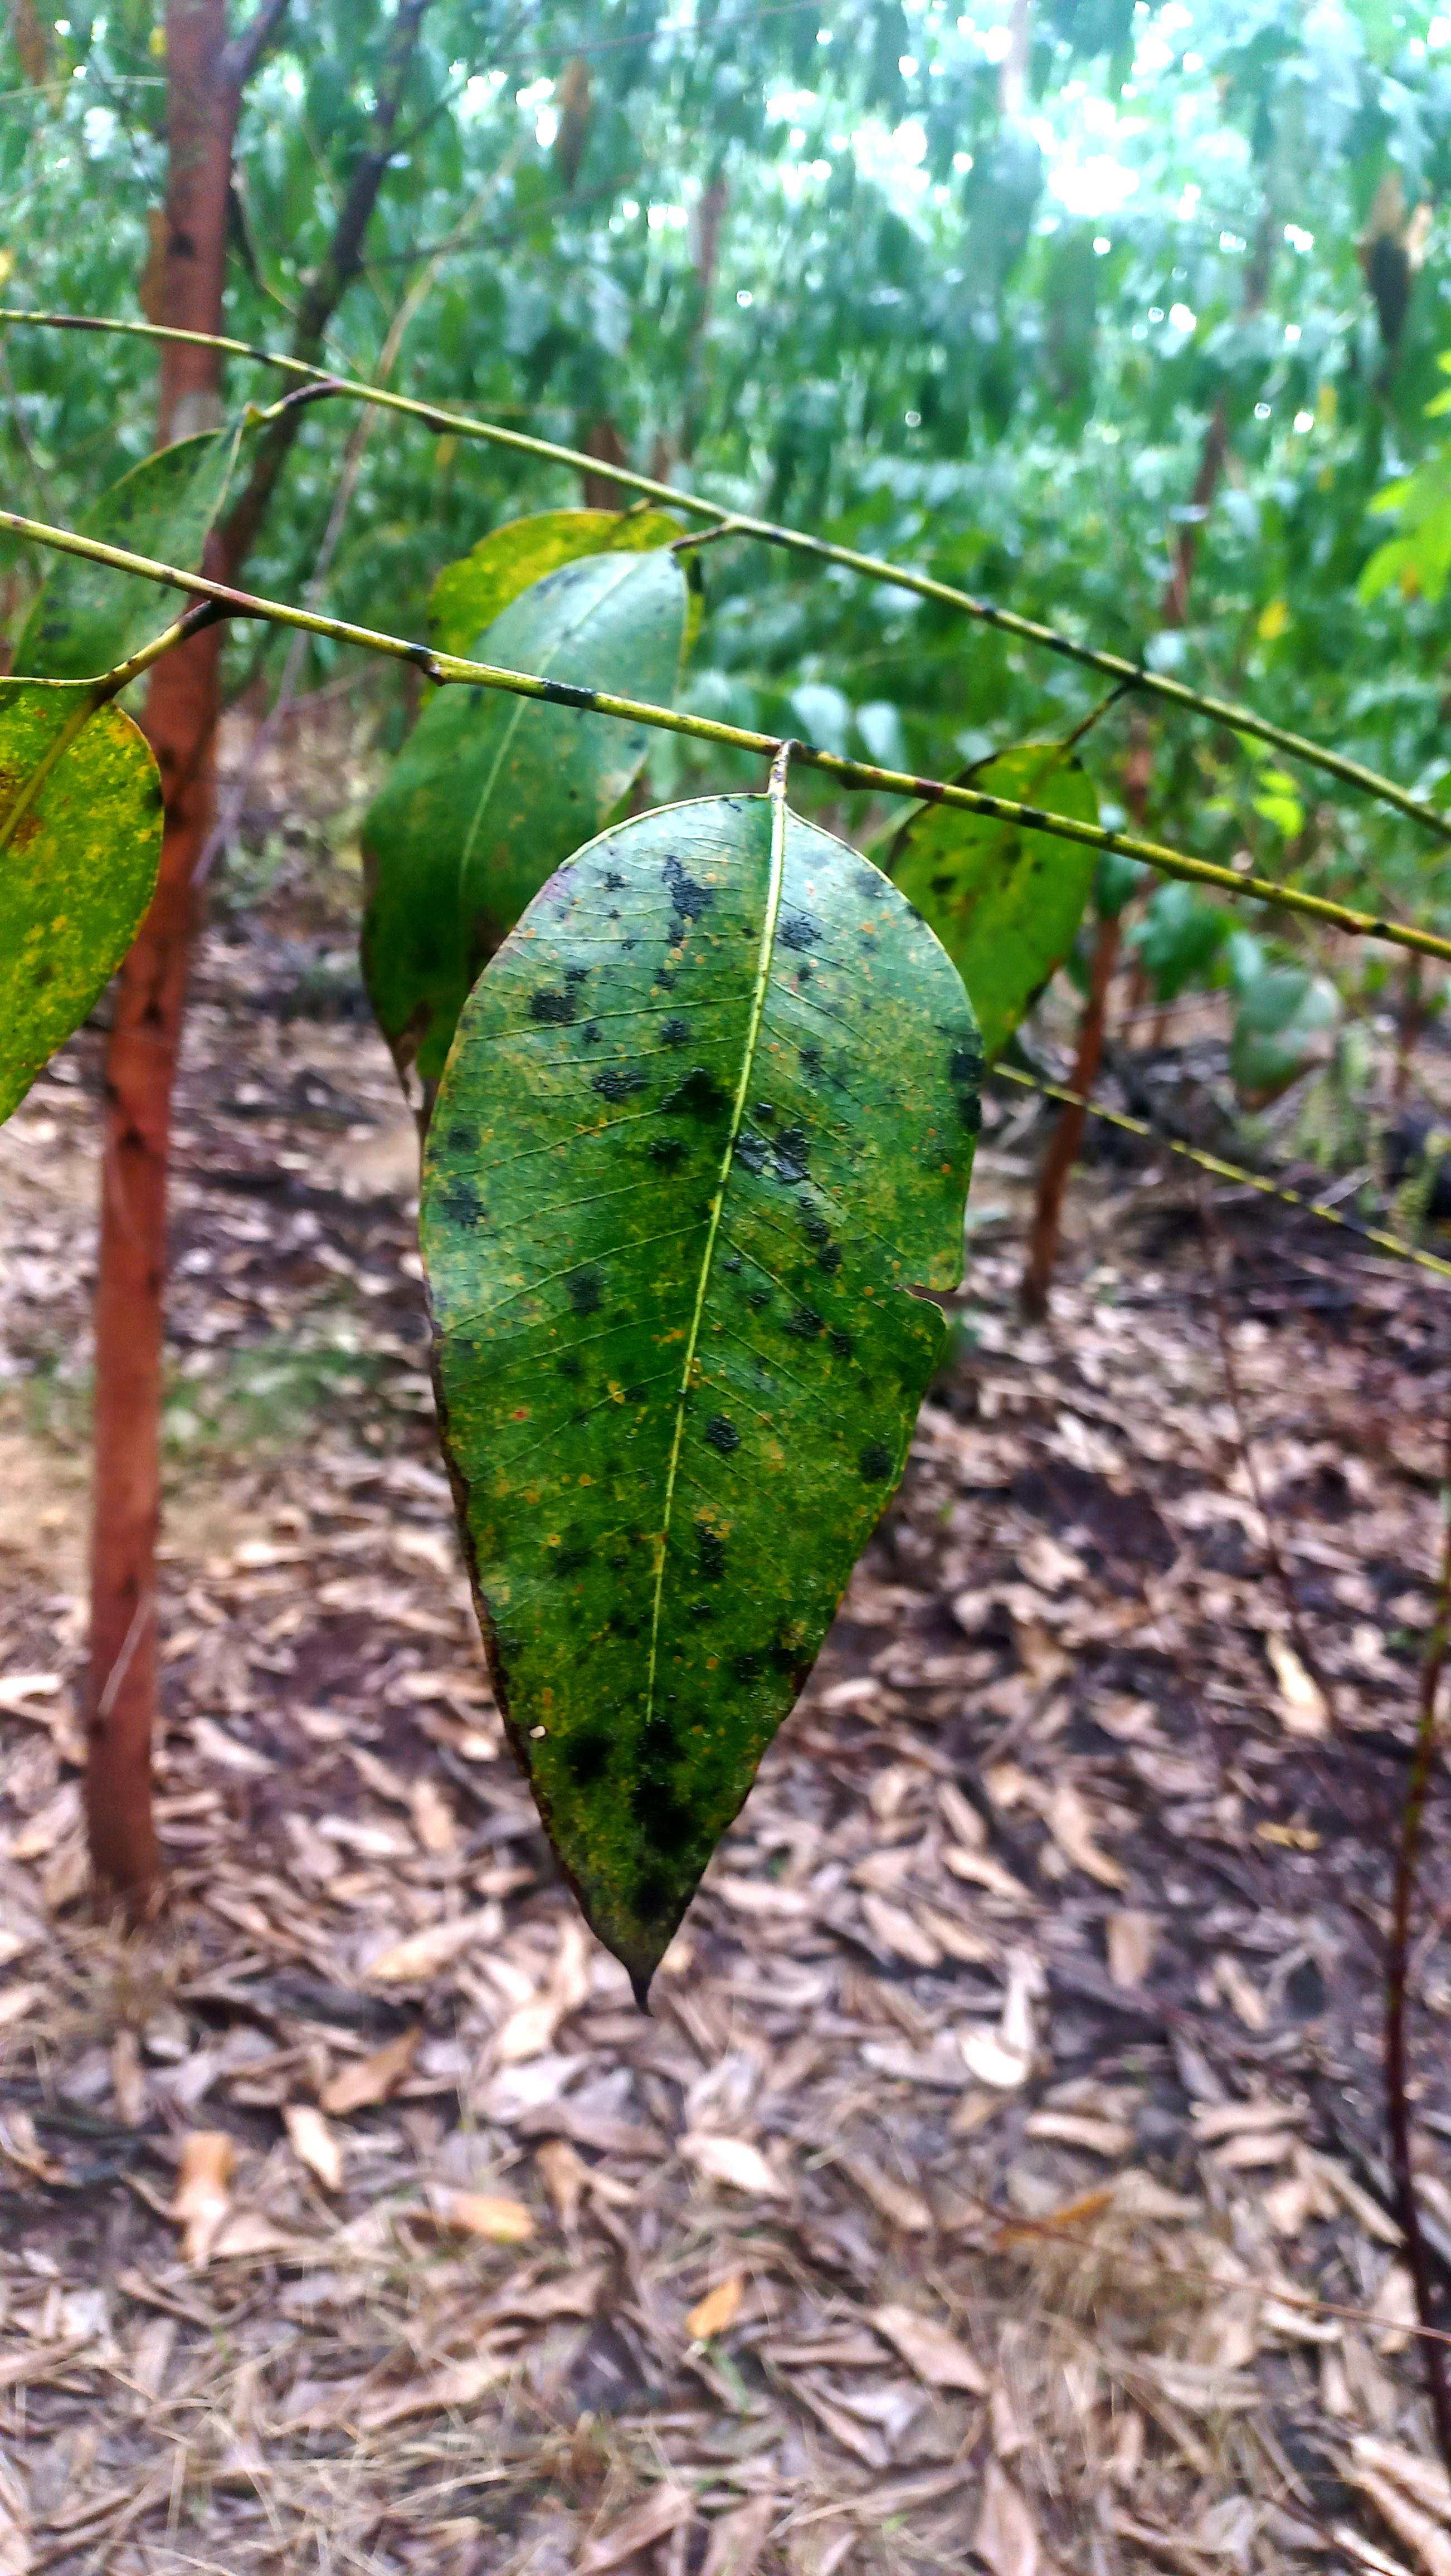Embun Jelaga: (409, 764, 987, 2013)
